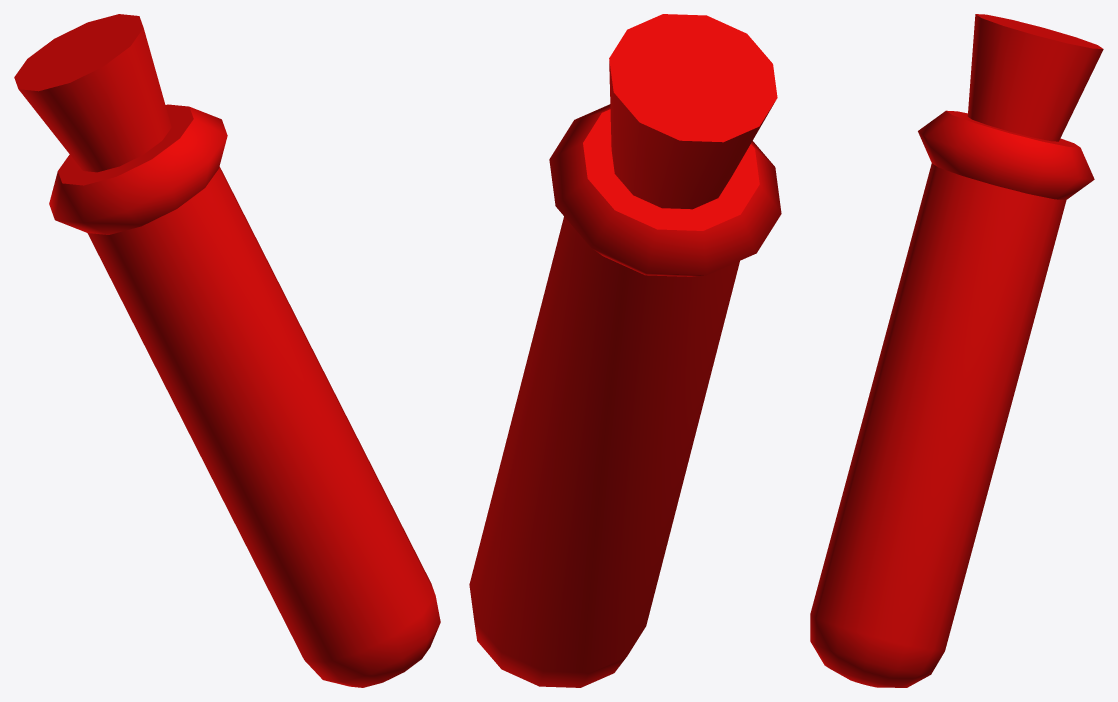
Rendered from Potions_02.fbx.
3 views of the same model, side by side, from view 1: azimuth 30°, elevation 25°; view 2: azimuth 150°, elevation 25°; view 3: azimuth 270°, elevation 25° (orthographic). The views are drawn at different scales.
Parts seen in each view (by area): view 1: Potion_02; view 2: Potion_02; view 3: Potion_02.
Boxes of the visible parts, left/top/right/bottom form: Potion_02: left=14, top=14, right=440, bottom=687; Potion_02: left=469, top=14, right=781, bottom=687; Potion_02: left=810, top=14, right=1103, bottom=687.
Bounding box in the file's own units: 0.2269 × 0.1943 × 0.4316.
